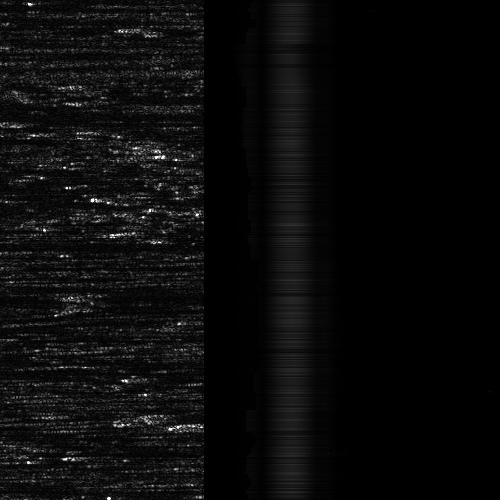rock: (0, 119, 49, 124)
shadow: (0, 103, 118, 122), (0, 181, 107, 194), (0, 238, 95, 251), (0, 368, 153, 375), (13, 119, 202, 124)
